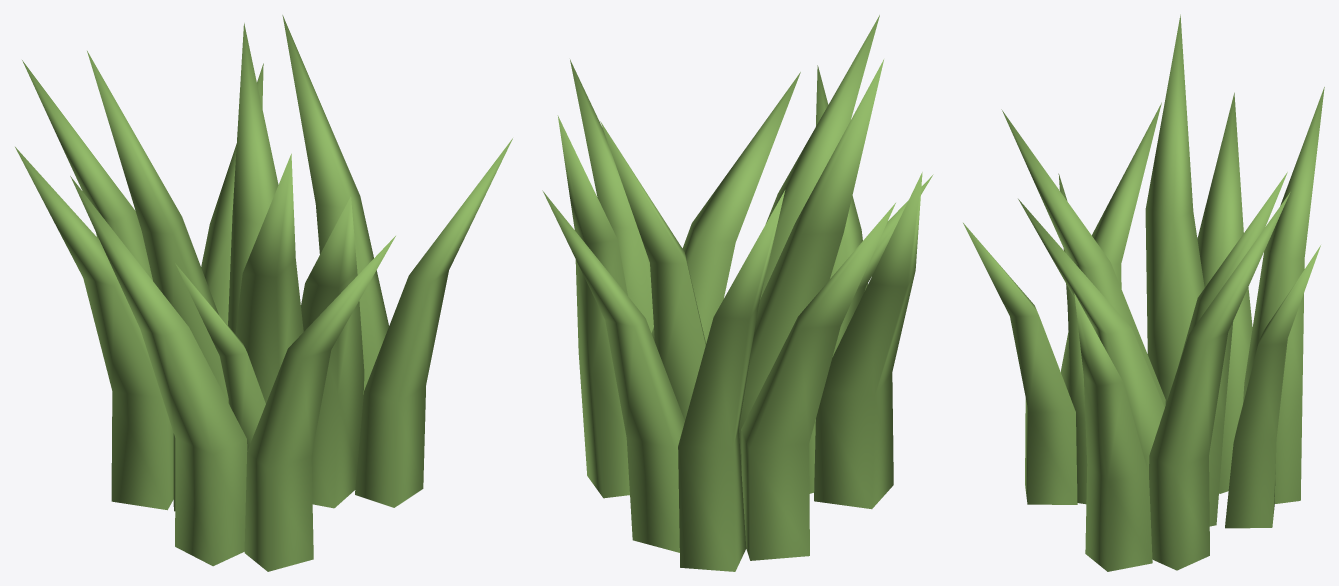
File: Grass_02.fbx
3 renders of one model, left to right at view 1: azimuth 30°, elevation 25°; view 2: azimuth 150°, elevation 25°; view 3: azimuth 270°, elevation 25°, orthographic. The views are drawn at different scales.
Visible parts, largest first — view 1: Grass_02; view 2: Grass_02; view 3: Grass_02.
Part boxes in pixels (x1,y1,x2,y2): Grass_02: (15,15,512,571); Grass_02: (542,15,933,571); Grass_02: (963,14,1324,571).
Size of the model in its own units: 45.74 by 51.39 by 39.32.
